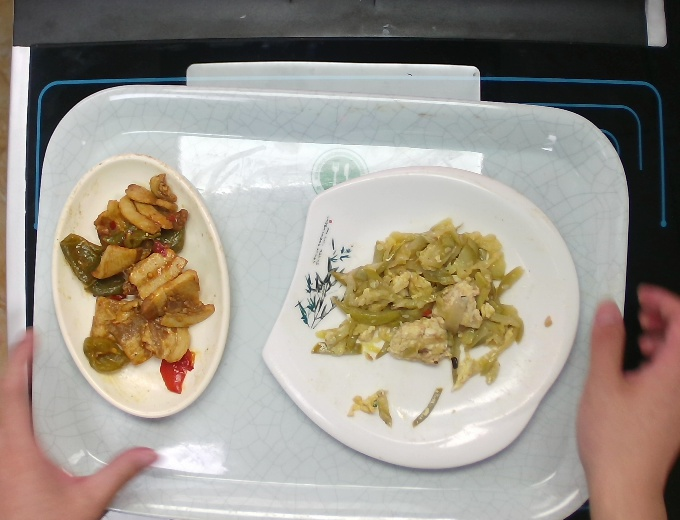JYsf-Mian_Pan: (260, 162, 586, 473)
JYsf-Tuo_Yuan_Wan: (46, 145, 240, 429)
